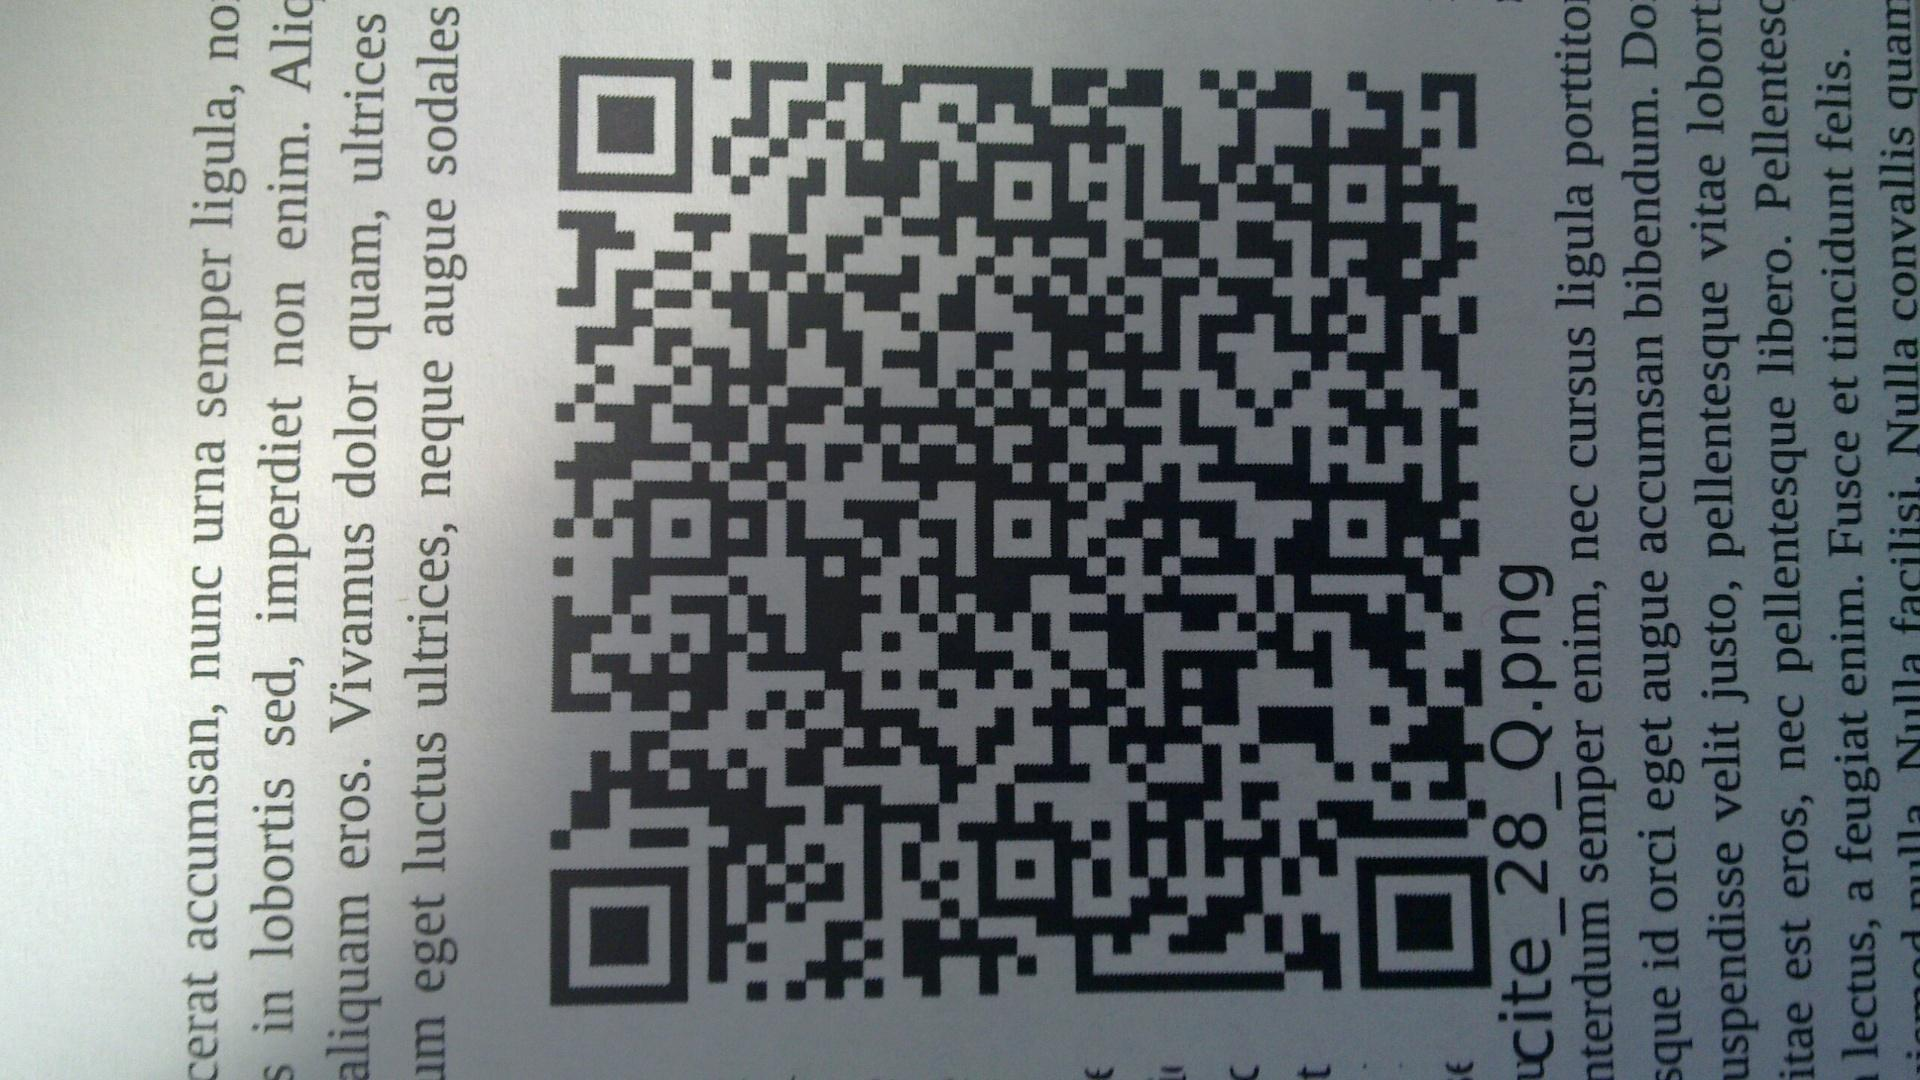Finder pattern: (1346, 847, 1498, 997), (541, 862, 695, 1007), (553, 50, 702, 199)
